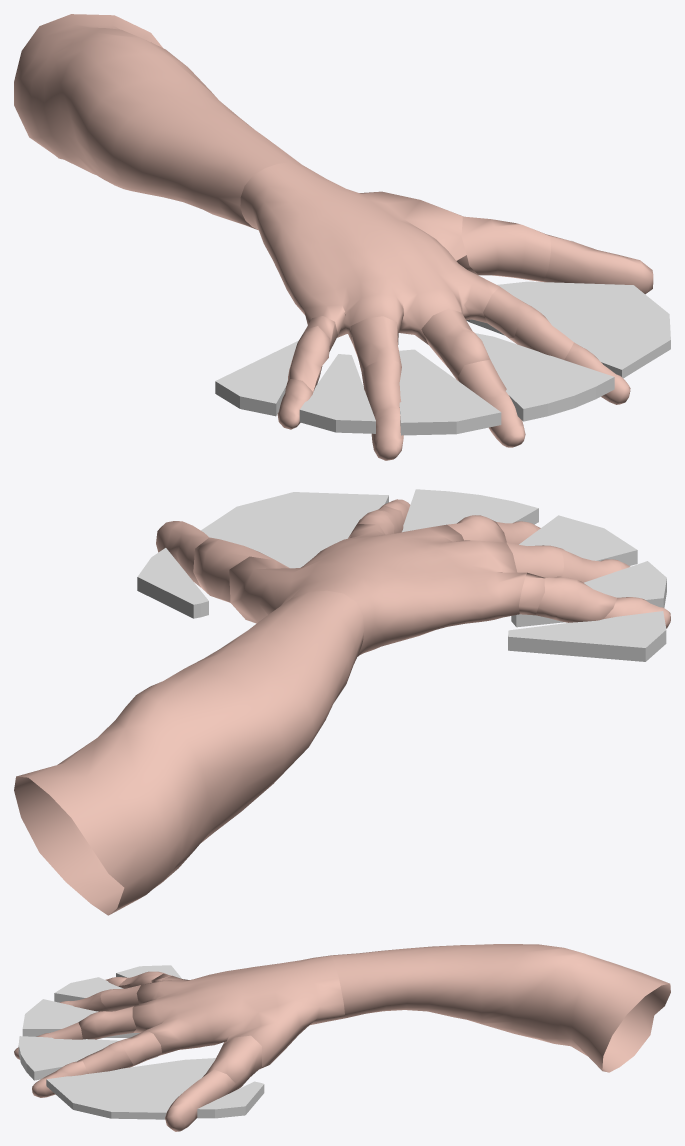
File: model_hand_spread (2).fbx
The picture shows the model from 3 angles, top to bottom: view 1: azimuth 30°, elevation 25°; view 2: azimuth 150°, elevation 25°; view 3: azimuth 270°, elevation 25°; orthographic projection. The views are drawn at different scales.
Visible parts, largest first — view 1: Arm, Arm.001, Gap.012, Gap.013, Gap.014, Thumb_1, Gap.015, Thumb_2, Gap.017, Middle_1, Ring_1, Ring_2 (+8 smaller); view 2: Arm, Arm.001, Gap.012, Gap.017, Gap.013, Gap.014, Gap.018, Pinky_2, Gap.015, Thumb_1, Thumb_2, Ring_1 (+4 smaller); view 3: Arm, Arm.001, Gap.012, Gap.013, Thumb_2, Thumb_1, Gap.014, Gap.018, Middle_1, Index_2, Index_1, Gap.015 (+6 smaller).
Part boxes in pixels (x1,y1,x2,y2): Arm: (14, 14, 301, 229); Arm.001: (240, 162, 499, 344); Gap.012: (466, 281, 670, 378); Gap.013: (475, 333, 614, 421); Gap.014: (399, 349, 501, 435); Thumb_1: (461, 216, 550, 281); Gap.015: (299, 354, 375, 433); Thumb_2: (540, 234, 653, 294); Gap.017: (215, 340, 298, 416); Middle_1: (421, 308, 490, 380); Ring_1: (350, 316, 401, 371); Ring_2: (361, 359, 401, 419); Arm: (14, 590, 364, 915); Arm.001: (229, 524, 526, 656); Gap.012: (201, 492, 388, 568); Gap.017: (508, 611, 666, 661); Gap.013: (402, 489, 538, 532); Gap.014: (519, 515, 637, 565); Gap.018: (137, 548, 208, 618); Pinky_2: (536, 576, 616, 622); Gap.015: (511, 561, 666, 627); Thumb_1: (193, 537, 275, 602); Thumb_2: (156, 521, 208, 587); Ring_1: (506, 542, 563, 577); Arm: (331, 944, 670, 1072); Arm.001: (132, 955, 345, 1069); Gap.012: (46, 1058, 215, 1119); Gap.013: (18, 1036, 157, 1080); Thumb_2: (165, 1069, 235, 1131); Thumb_1: (206, 1035, 261, 1093); Gap.014: (22, 999, 139, 1037); Gap.018: (197, 1081, 264, 1118); Middle_1: (78, 1006, 136, 1039); Index_2: (77, 1041, 137, 1073); Index_1: (118, 1030, 161, 1064); Gap.015: (54, 977, 123, 1002).
Bounding box in the file's own units: 4710 × 1592 × 8497.
